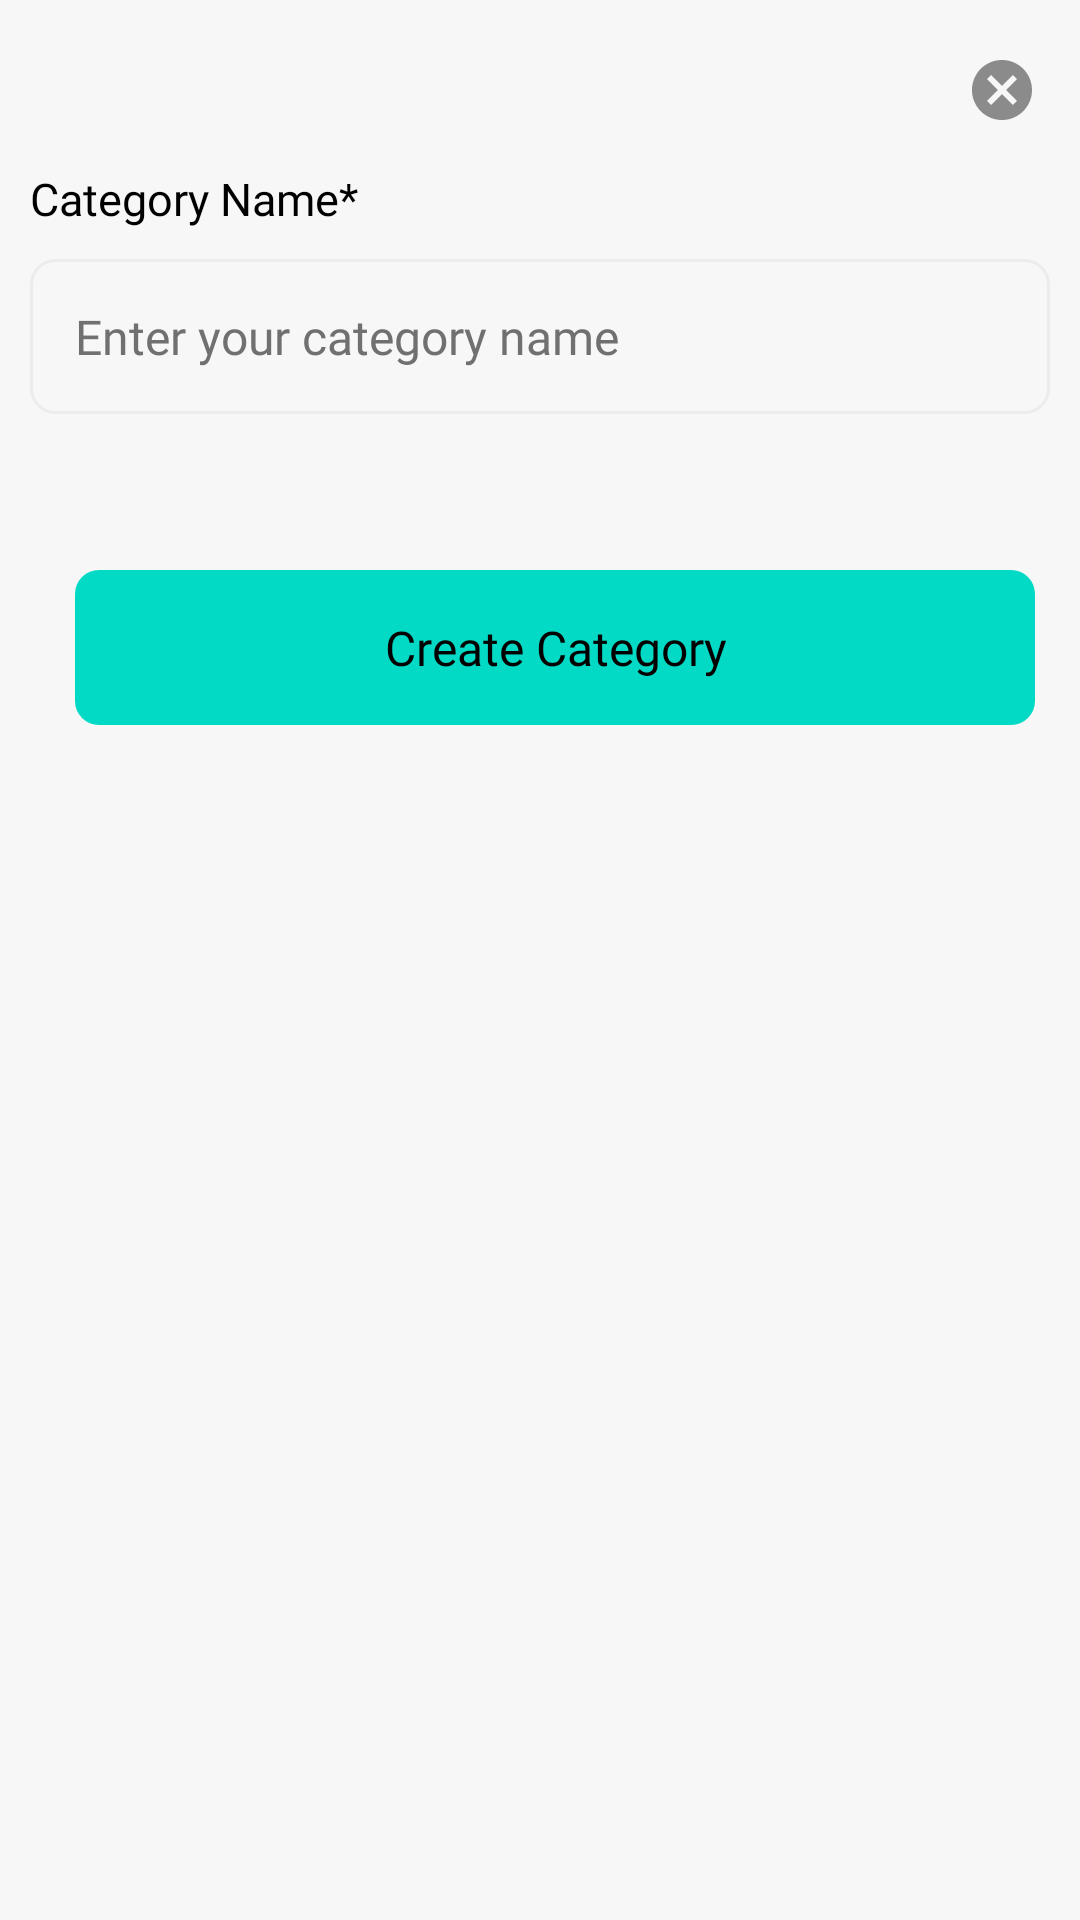

Point at icon controls on the screen. Image size 1080 × 1920, points as point (x, y).
cross: point (1002, 90)
